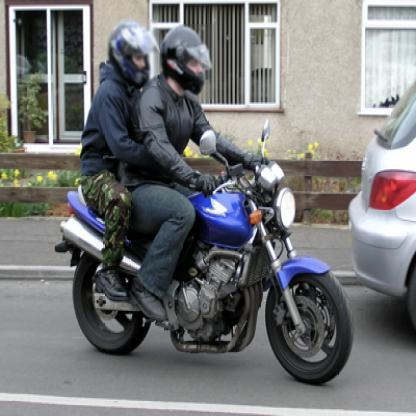Helmet: (158, 25, 217, 97), (107, 17, 160, 90)
